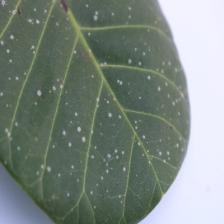red rust: (0, 0, 192, 224)
